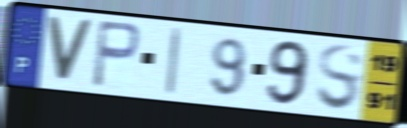9: (264, 38, 313, 109), (206, 35, 253, 99)
I: (163, 26, 184, 98)
P: (89, 18, 143, 91)
S: (314, 42, 365, 114)
V: (44, 13, 96, 86)
